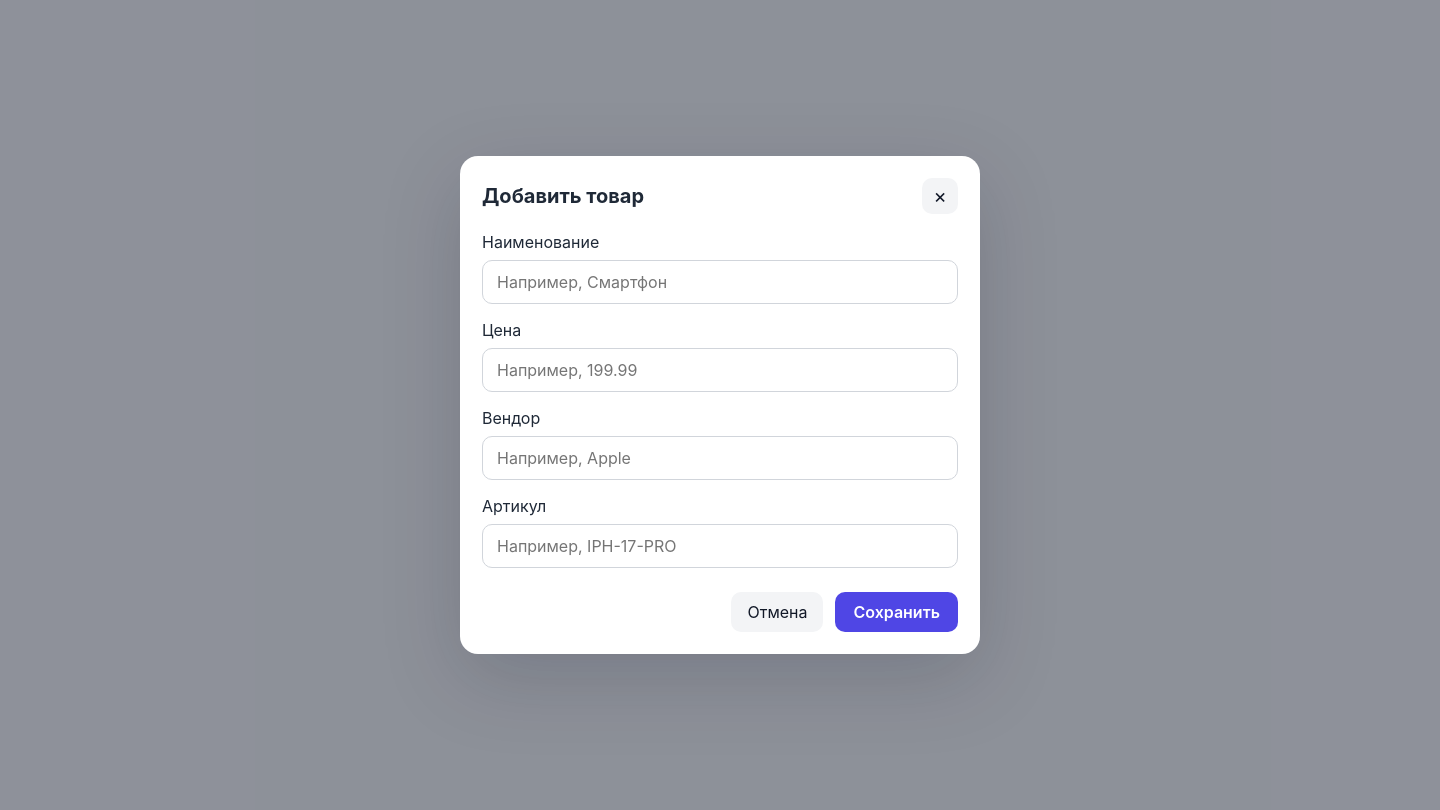
Test: AddProductModal › shows validation errors when submitted empty
Click the button "Сохранить" at (897, 612), box [836,592,958,632]
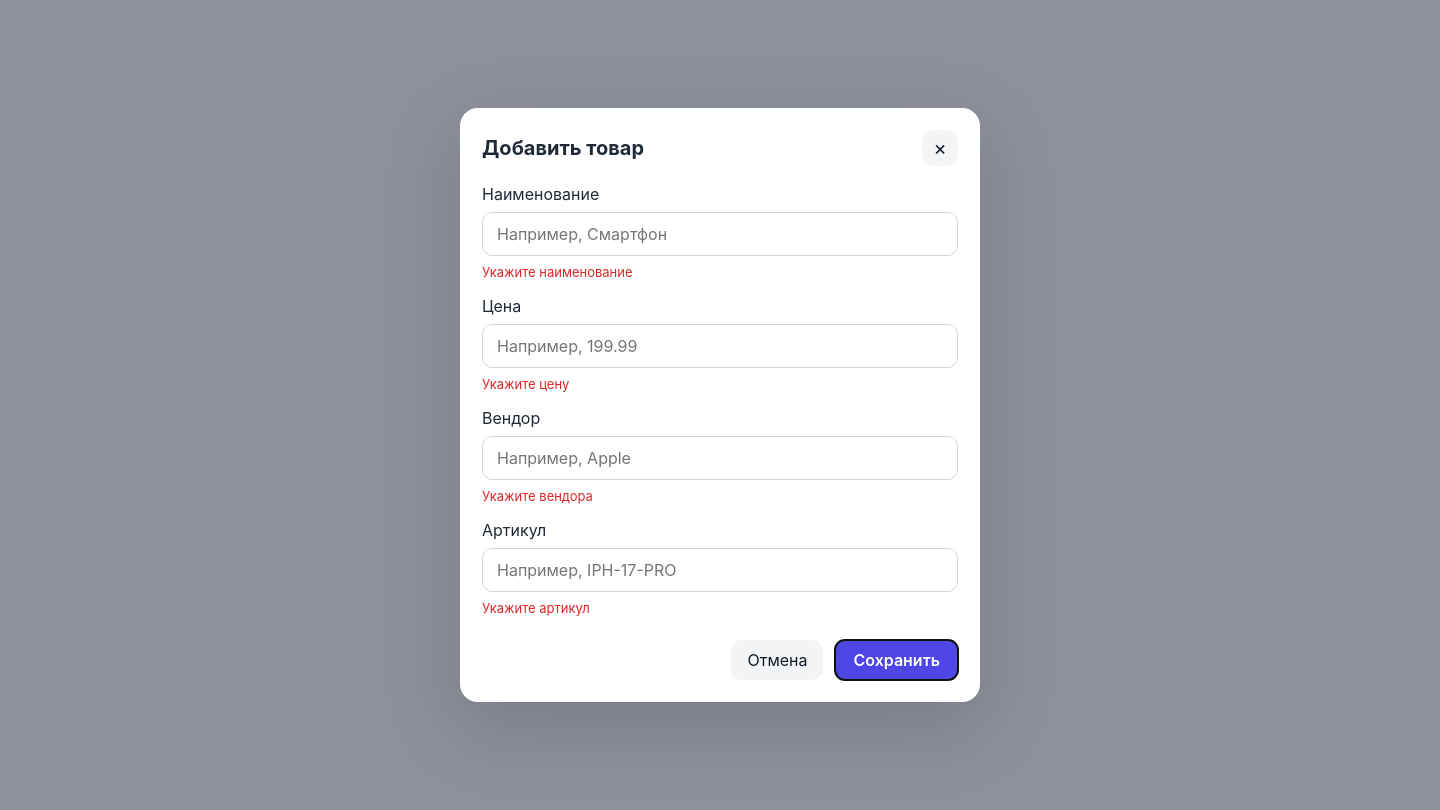
Expected: the text "Укажите наименование" is shown, [482,264,632,280]
Expected: the text "Укажите цену" is shown, [482,376,569,392]
Expected: the text "Укажите вендора" is shown, [482,488,593,504]
